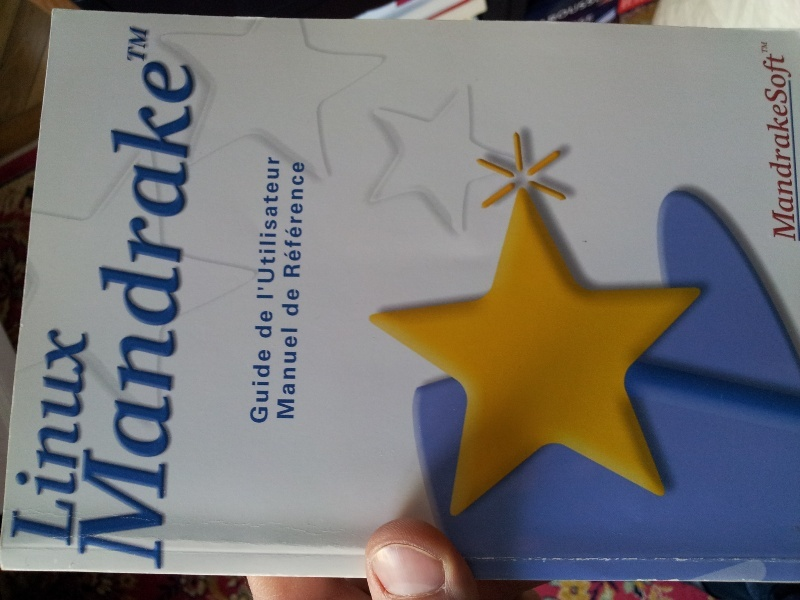text: (129, 52, 144, 570), (145, 52, 160, 570), (161, 52, 176, 570), (177, 52, 192, 570), (114, 52, 128, 570), (193, 52, 205, 570), (81, 320, 97, 549), (49, 320, 64, 549), (65, 320, 80, 549), (34, 320, 48, 549), (769, 50, 784, 242), (785, 50, 798, 242), (289, 159, 304, 283), (273, 152, 284, 304), (263, 152, 272, 304), (761, 50, 768, 242), (289, 322, 301, 425), (257, 345, 272, 426), (280, 322, 288, 425), (305, 159, 311, 283), (129, 19, 144, 65), (289, 284, 304, 318), (145, 19, 156, 65), (257, 307, 272, 340), (251, 345, 256, 426), (273, 345, 277, 426), (125, 19, 128, 65), (760, 40, 768, 54), (285, 284, 288, 318), (254, 307, 256, 340), (273, 307, 275, 340), (769, 40, 770, 54)
